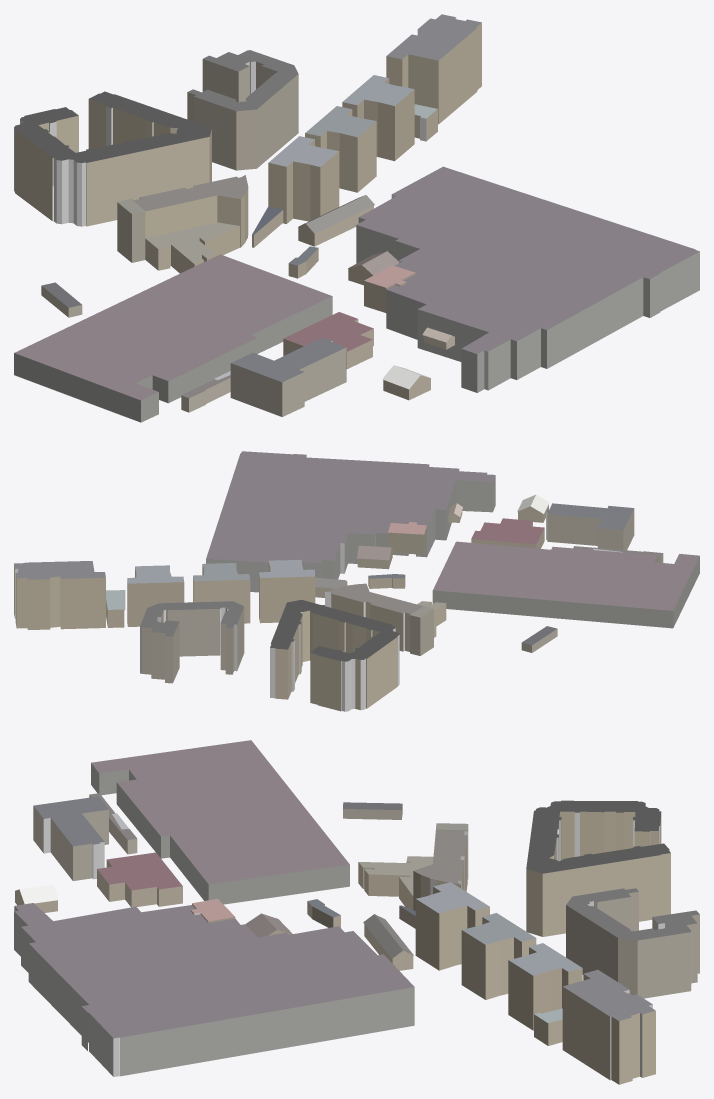
3 views of the same model, one above another, from view 1: azimuth 30°, elevation 25°; view 2: azimuth 150°, elevation 25°; view 3: azimuth 270°, elevation 25° (orthographic). The views are drawn at different scales.
Visible parts, largest first — view 1: tuile; view 2: tuile; view 3: tuile.
Boxes of the visible parts, x1,y1,x2,y2 form: tuile: [14, 14, 699, 422]; tuile: [14, 451, 699, 711]; tuile: [14, 740, 699, 1084].
Size of the model in its own units: 291 by 31.27 by 266.
